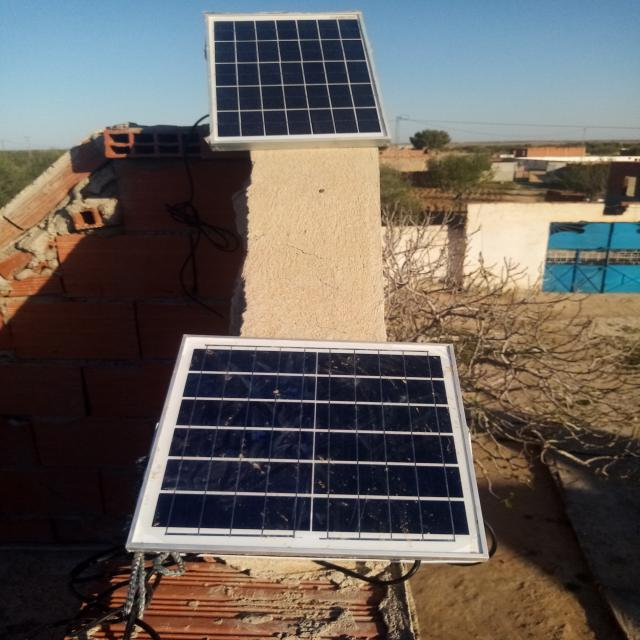faulty: (126, 334, 488, 556)
no faulty: (206, 12, 390, 144)
